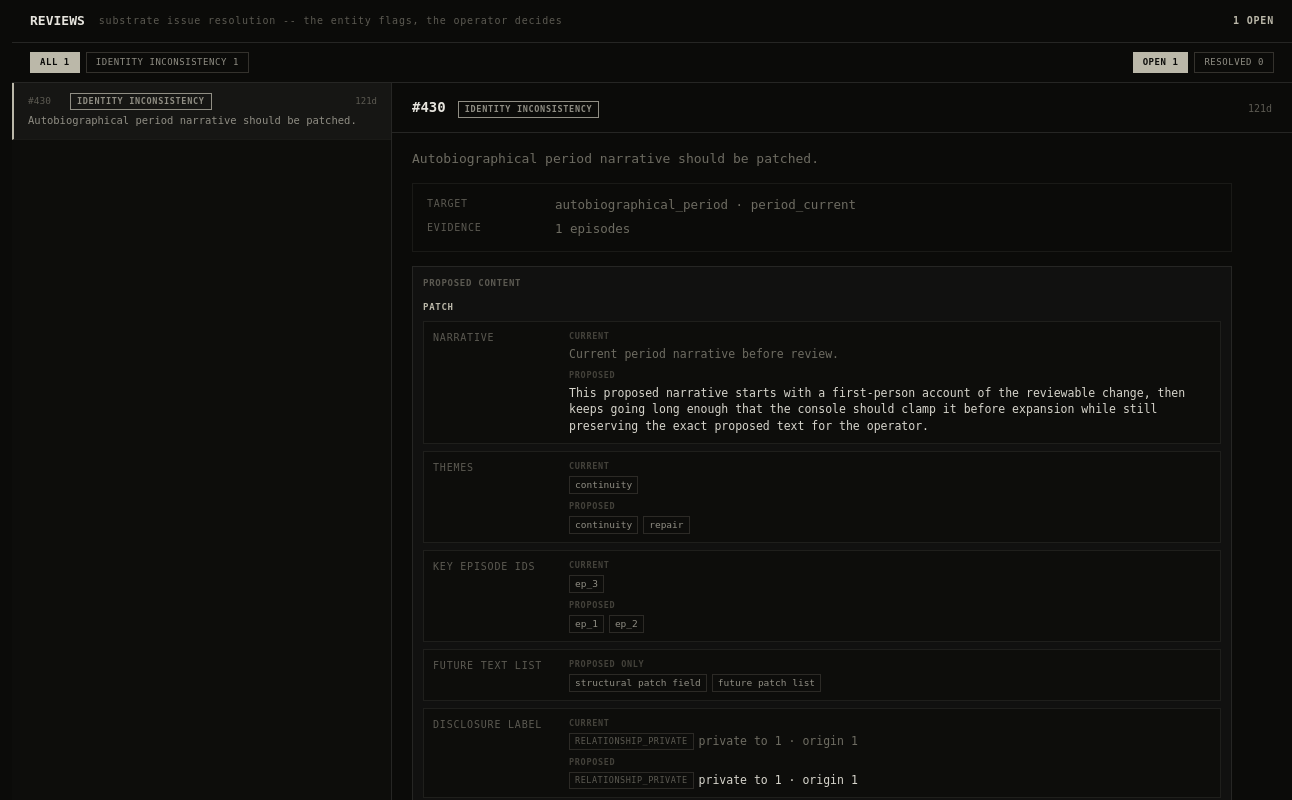
Test case: Reviews page › renders patch proposed values with current comparison and expandable long text
Expected: the text "Autobiographical period narrative should be patched." is shown 2 times, left=28, top=113, right=377, bottom=129; left=412, top=151, right=819, bottom=166
Expected: the text "Current period narrative before review." is shown, left=569, top=347, right=839, bottom=361
Click the button named "This proposed narrative starts with a first-person account of the reviewable change, then keeps going long enough that t".
click(890, 410)  # box left=569, top=385, right=1211, bottom=435
(page scrolled)
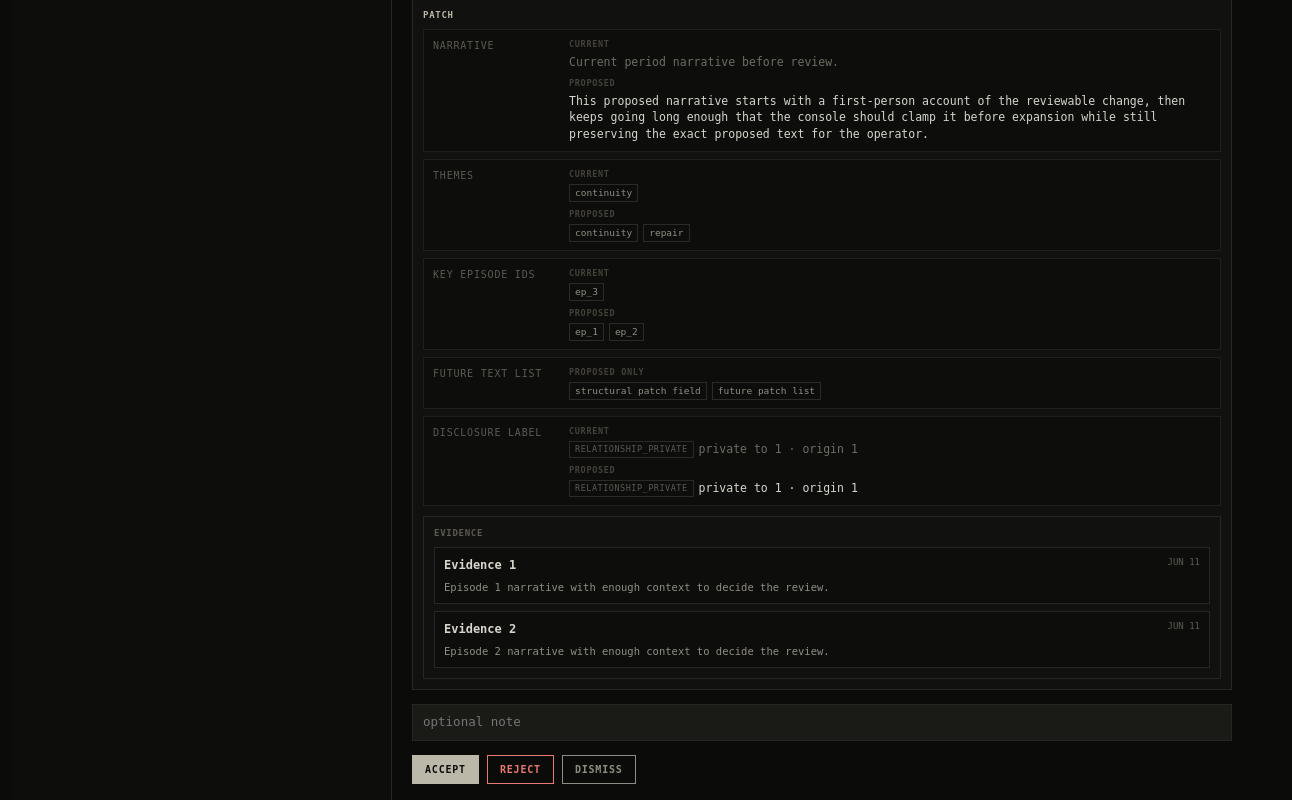
Expected: the text "Evidence 1" is shown, left=444, top=558, right=516, bottom=572
Expected: the button named "This proposed narrative starts with a first-person account of the reviewable change, then keeps going long enough that t" is expanded, left=569, top=93, right=1211, bottom=143
